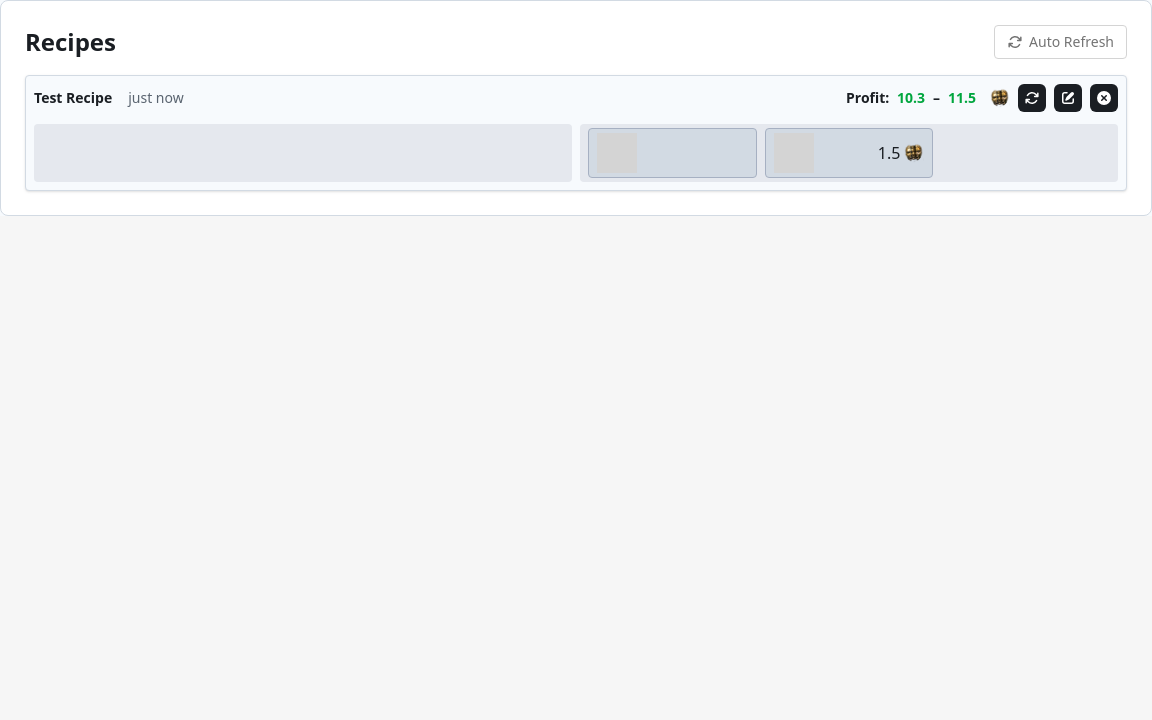
Test: RecipesListPage › keeps recipe in list if delete is cancelled
Expected: the element with test id "recipe-card-test1" is shown, [25, 75, 1127, 191]
Click the button with test id "delete-recipe-test1".
click(1104, 98)  # box [1090, 84, 1118, 112]
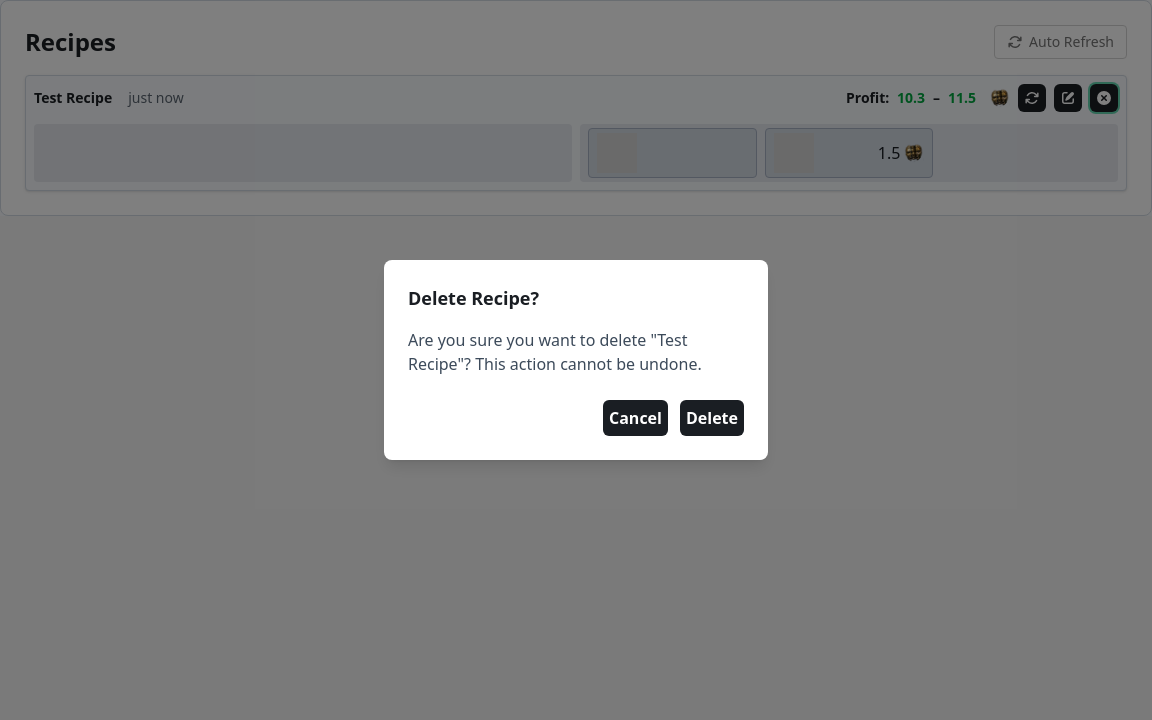
Click the button with test id "delete-modal-cancel-btn".
click(635, 418)  # box [603, 400, 668, 436]
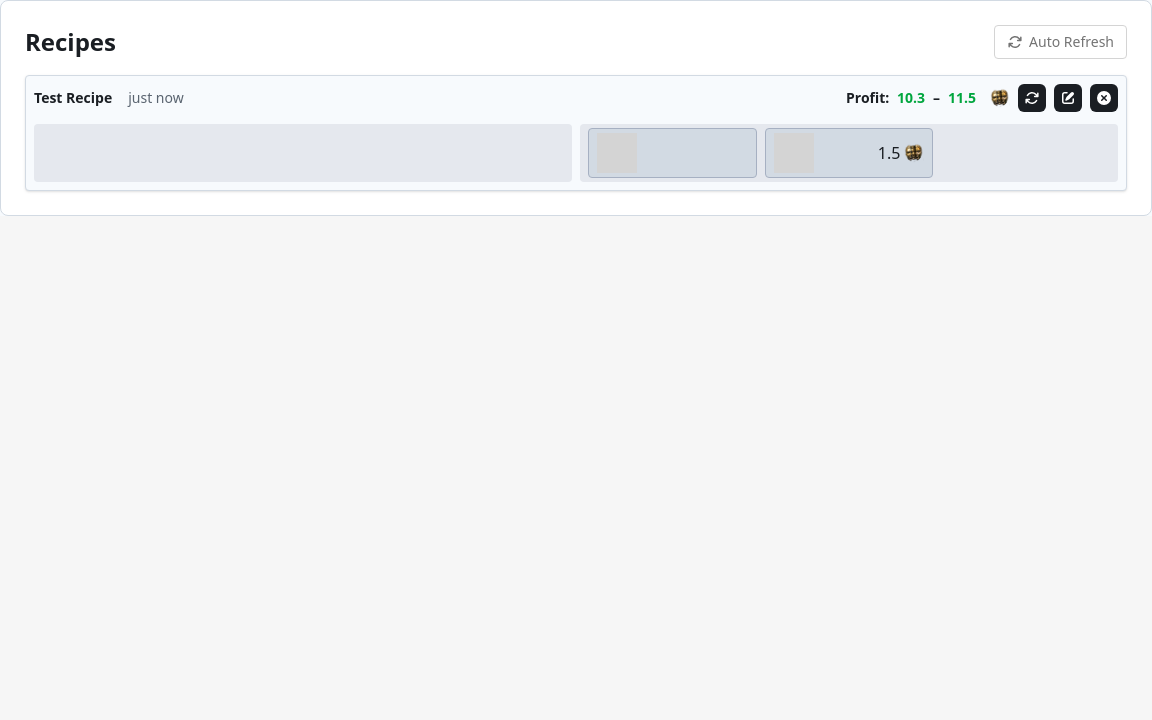
Expected: the element with test id "recipe-card-test1" is shown, [25, 75, 1127, 191]
Expected: the element with test id "delete-modal" is gone
